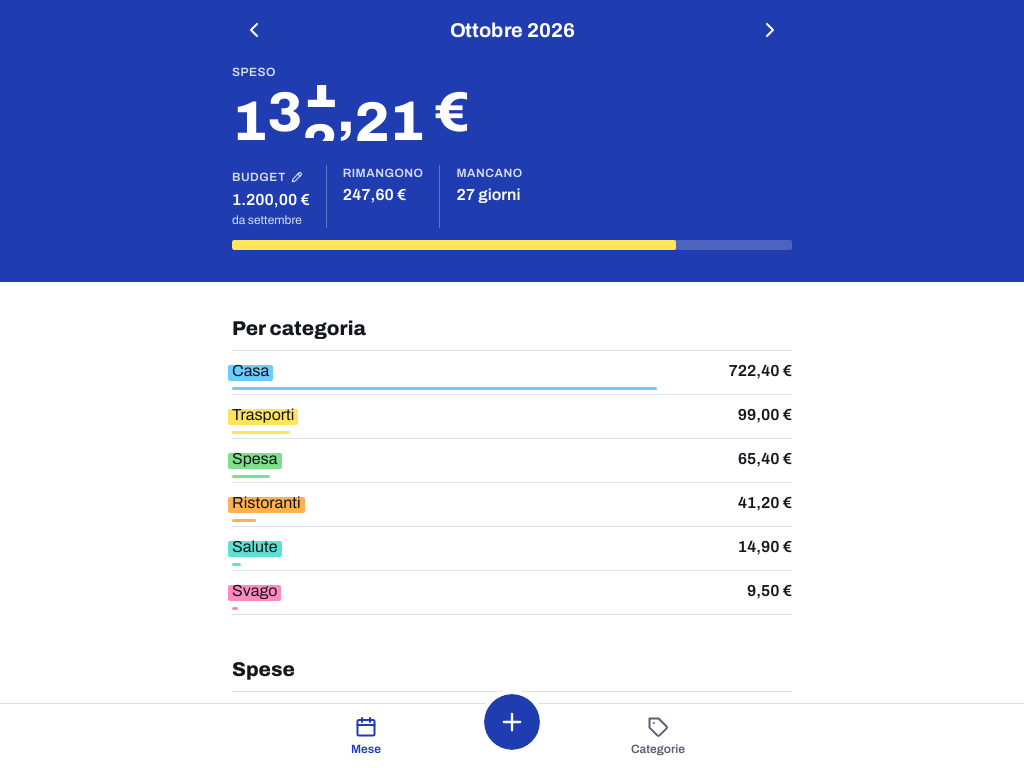
Test case: schermata Mese › passa al mese successivo con la freccia
The width and height of the screenshot is (1024, 768).
Click the link named "Mese successivo, Novembre 2026" at point(770, 30), box [758,18,782,42]
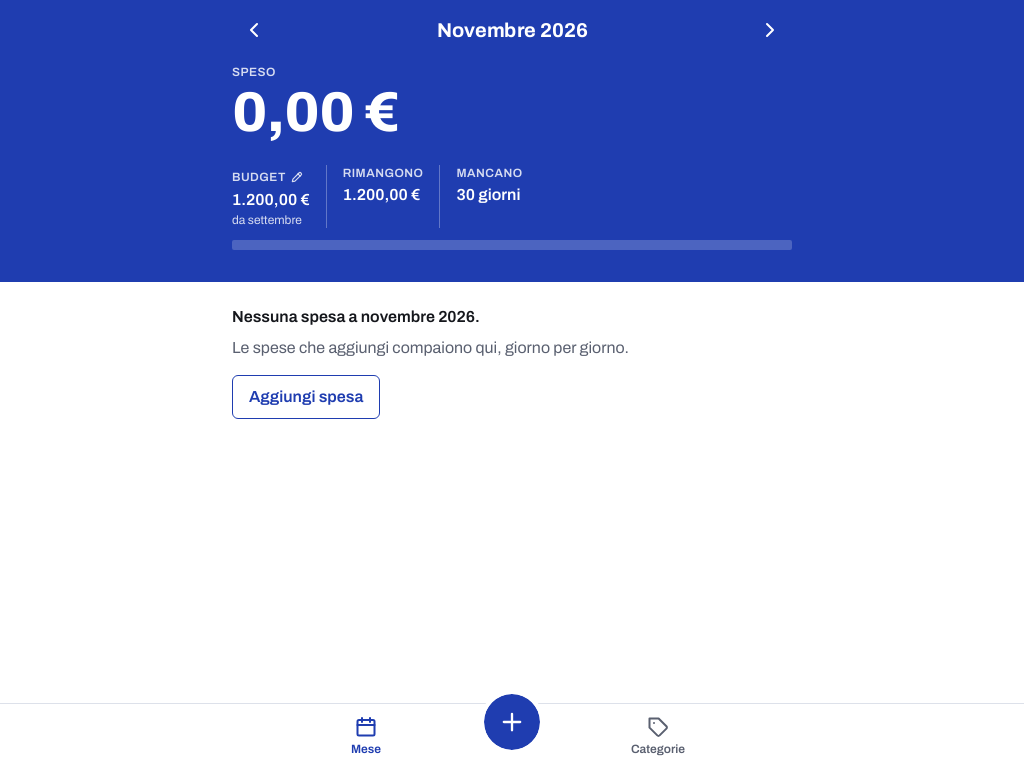
Check: the heading named "Novembre 2026" is shown, box [436,18,662,41]
Check: the text "Nessuna spesa a novembre 2026." is shown, box [232,306,480,329]
